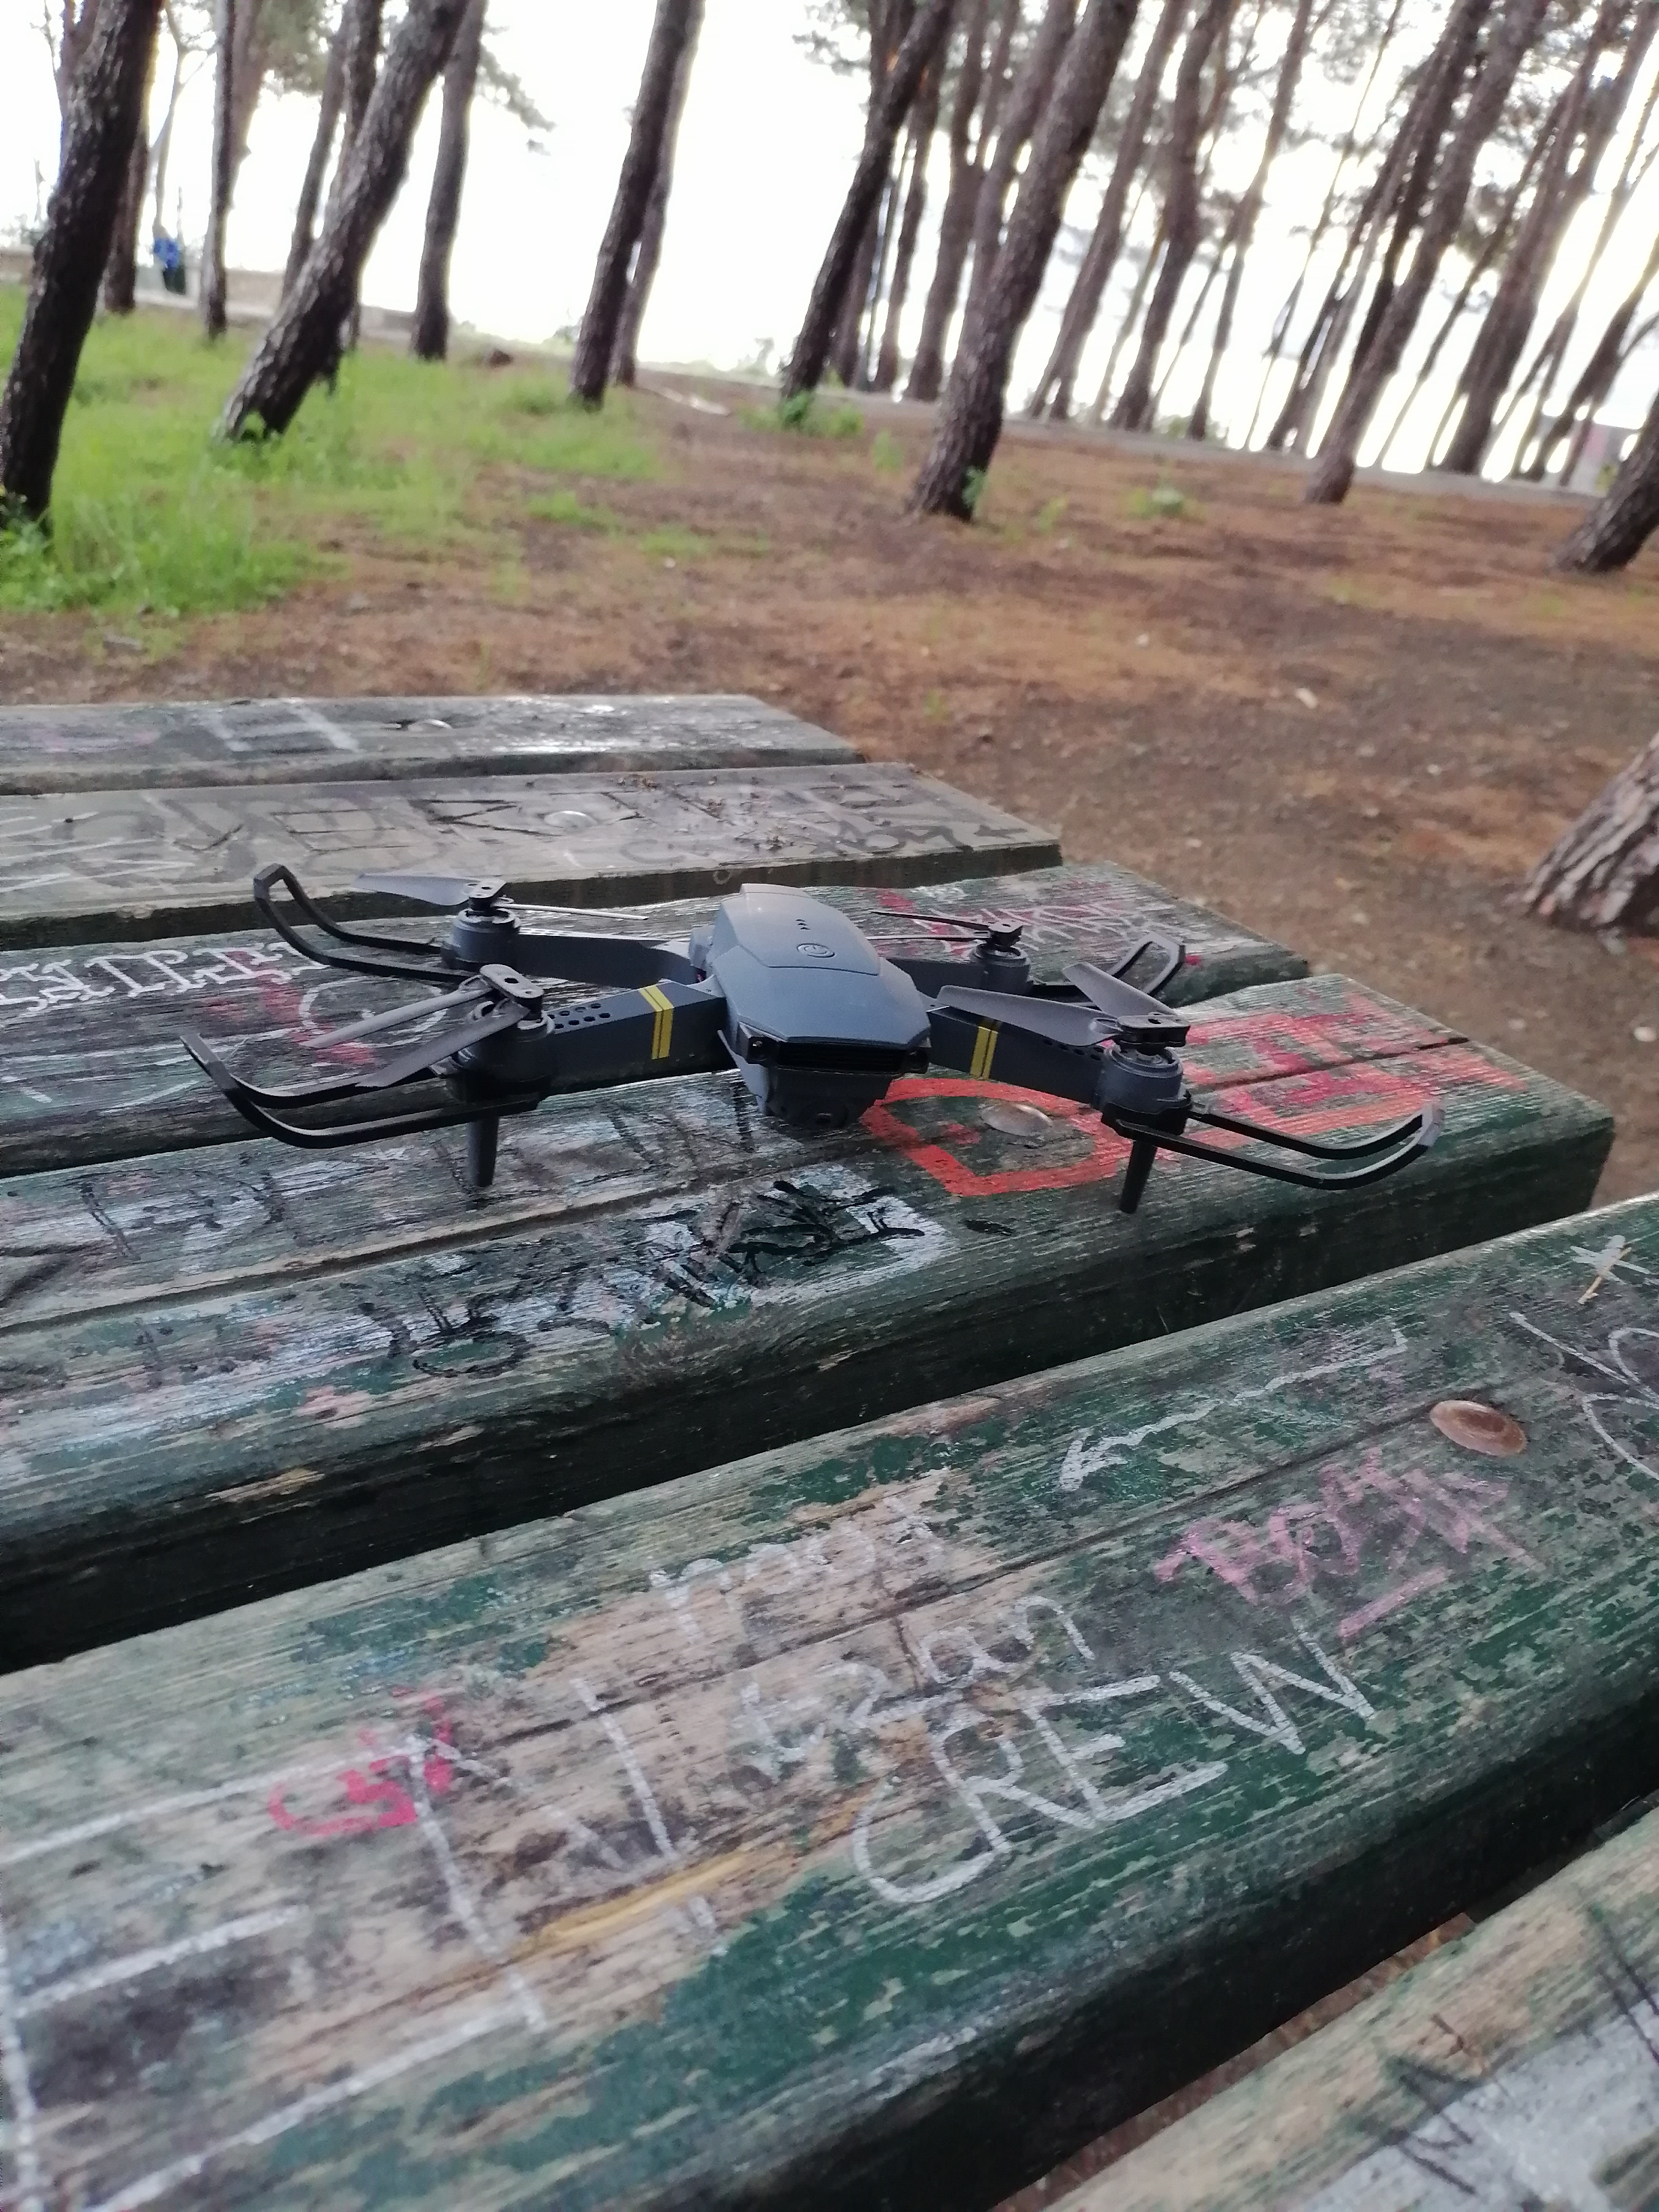drone: (214, 845, 1460, 1296)
